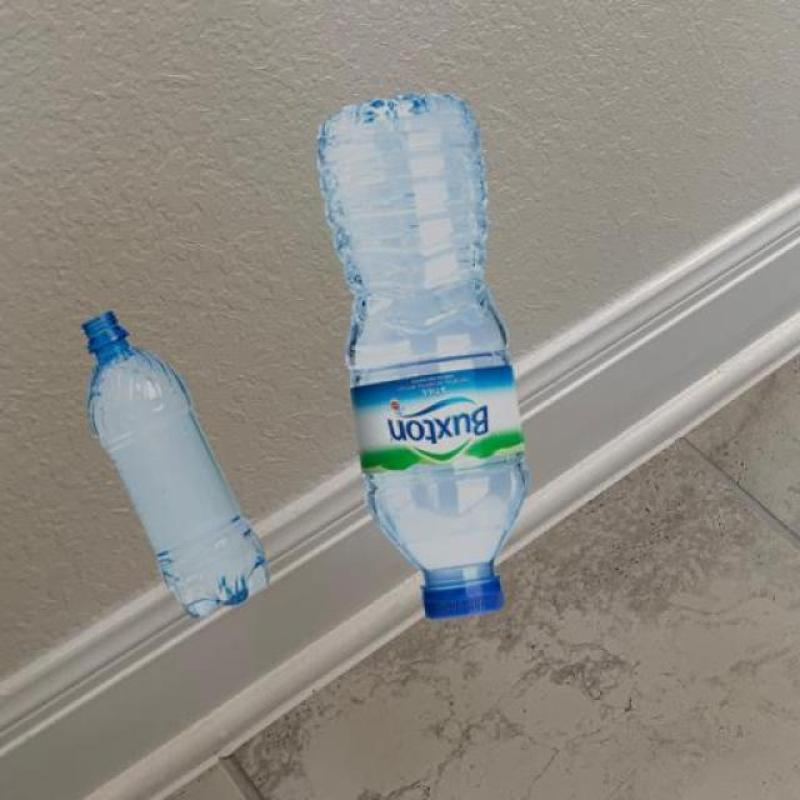botella: (315, 92, 527, 620), (80, 311, 270, 620)
